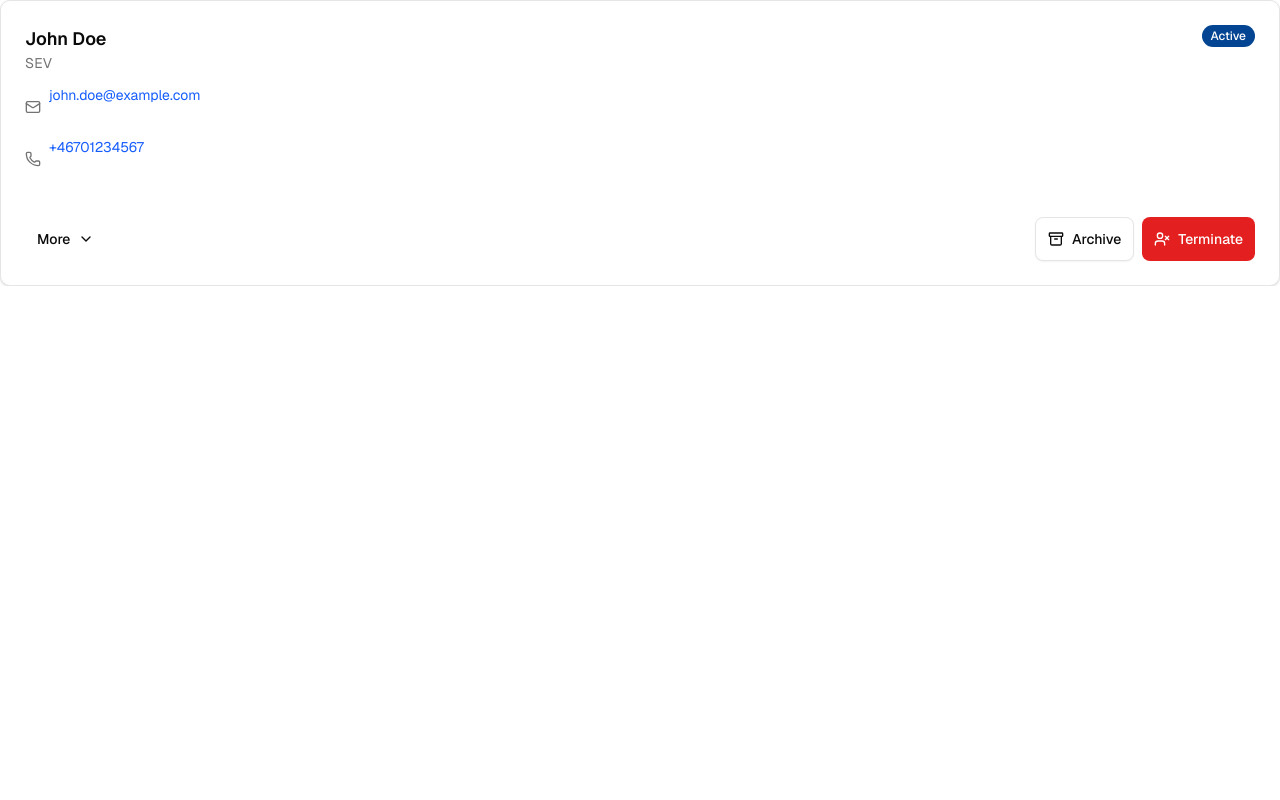
it: EmployeeCard - Expansion Behavior › AC1: Expansion Behavior Tests › should collapse card back to summary view when "Less" button is clicked
// Expand first
Click the button with aria-label "Expand details" at (66,239), box [25, 217, 106, 261]
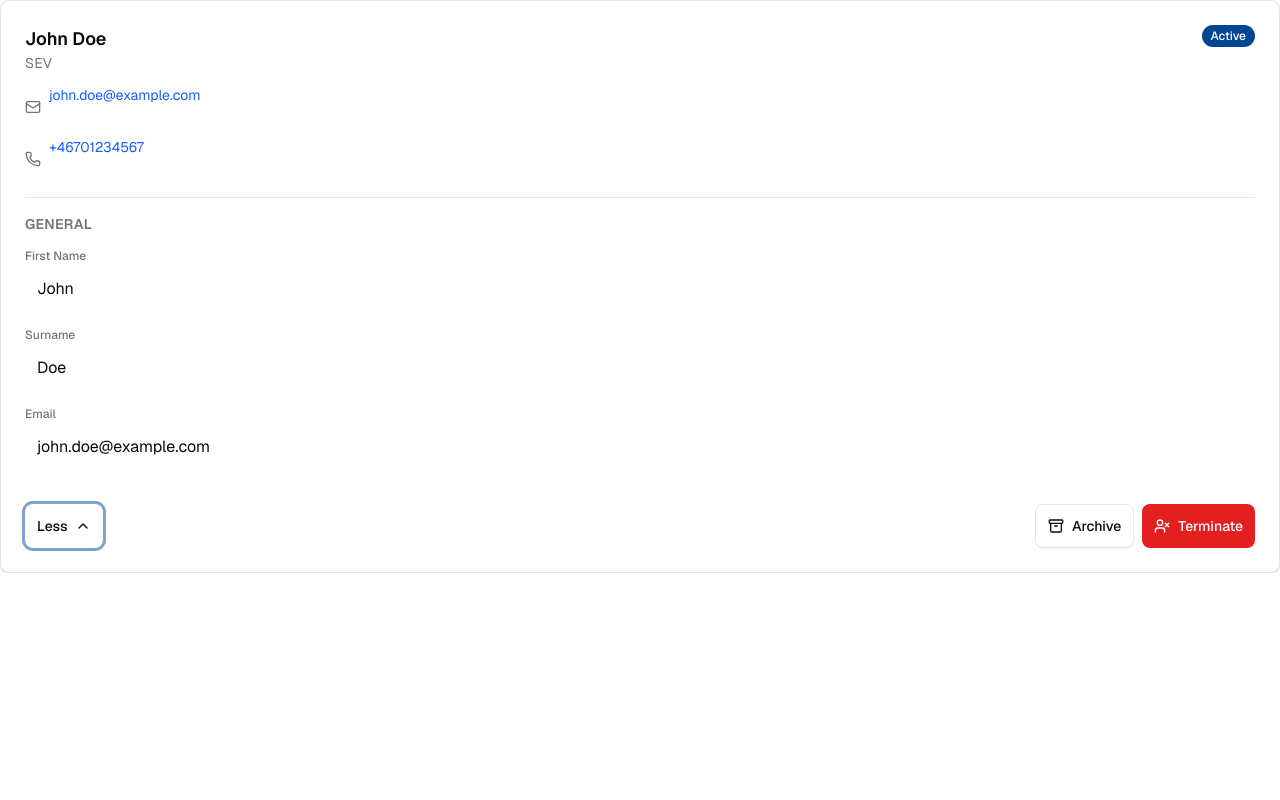
Result: the button with aria-label "Collapse details" is shown
Click the button with aria-label "Collapse details" at (64,526), box [25, 504, 104, 548]
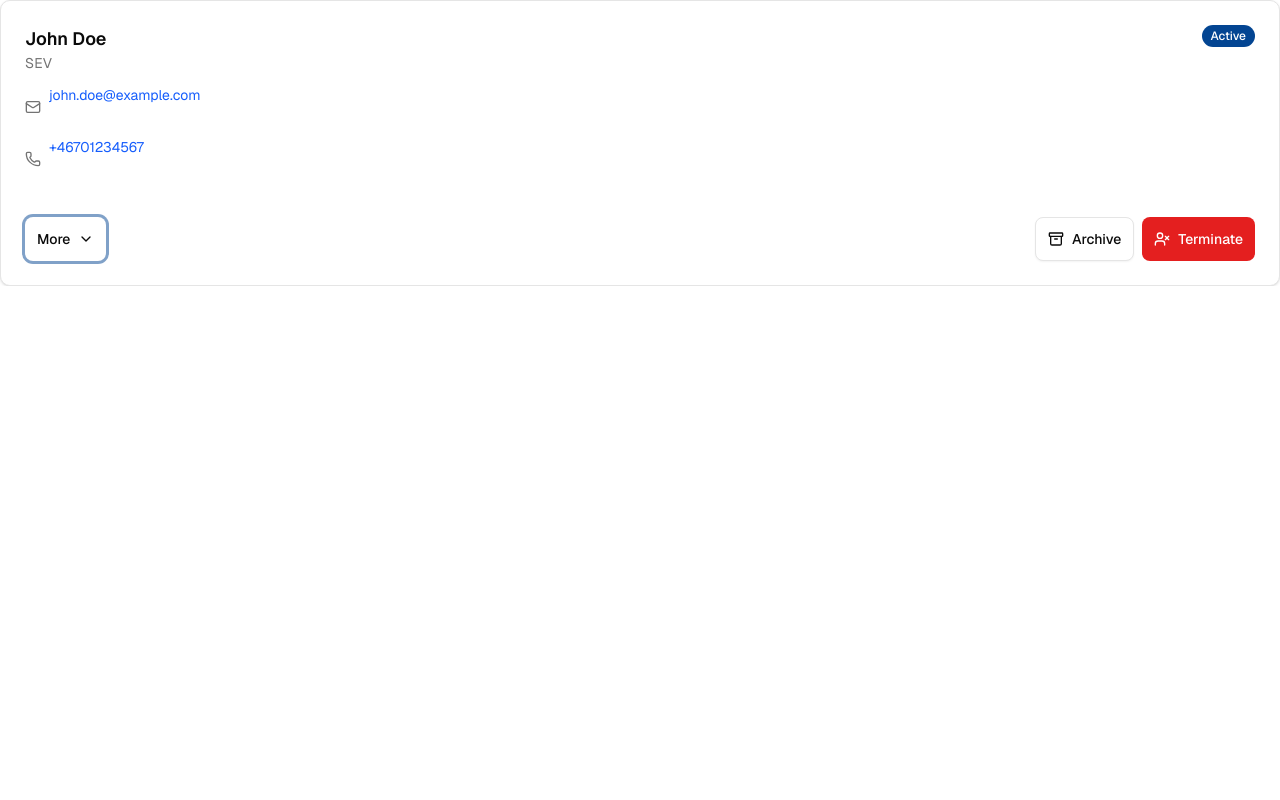
Result: the button with aria-label "Expand details" is shown at [25, 217, 106, 261]
Result: the button "Less" is gone
Result: the text "First Name" is gone
